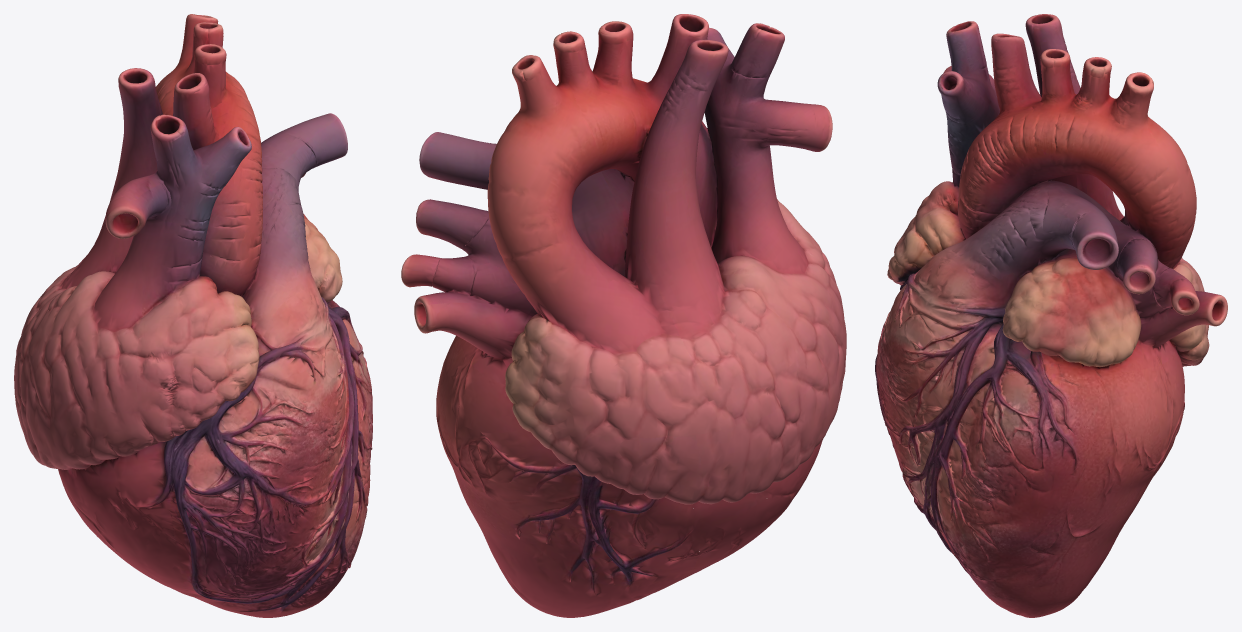
Rendered from heart.glb.
3 views of the same model, side by side, from view 1: azimuth 30°, elevation 25°; view 2: azimuth 150°, elevation 25°; view 3: azimuth 270°, elevation 25° (orthographic). The views are drawn at different scales.
Parts seen in each view (by area): view 1: tripo_node_9c16954f-d29a-4a4b-baf4-ba02eda23201; view 2: tripo_node_9c16954f-d29a-4a4b-baf4-ba02eda23201; view 3: tripo_node_9c16954f-d29a-4a4b-baf4-ba02eda23201.
Boxes of the visible parts, x1,y1,x2,y2 form: tripo_node_9c16954f-d29a-4a4b-baf4-ba02eda23201: (14, 14, 372, 617); tripo_node_9c16954f-d29a-4a4b-baf4-ba02eda23201: (401, 14, 846, 617); tripo_node_9c16954f-d29a-4a4b-baf4-ba02eda23201: (875, 14, 1227, 617).
Bounding box in the file's own units: 0.5967 × 0.9804 × 0.5847.
1 material, 1 textured.
